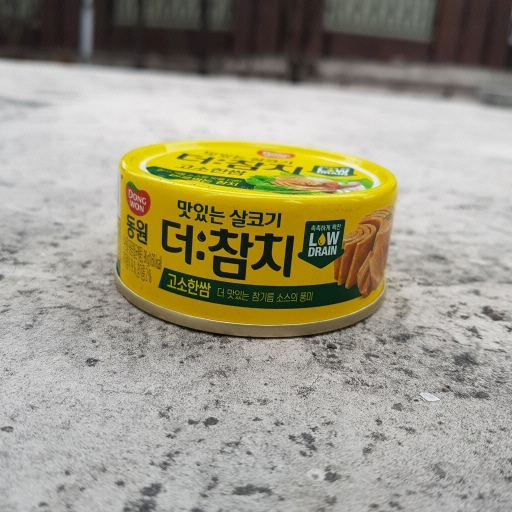Metal_1: (110, 135, 400, 340)
